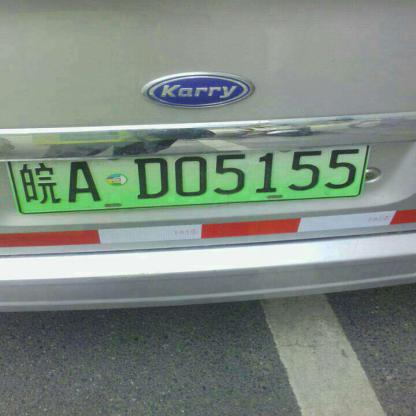lp: (8, 144, 365, 212)
